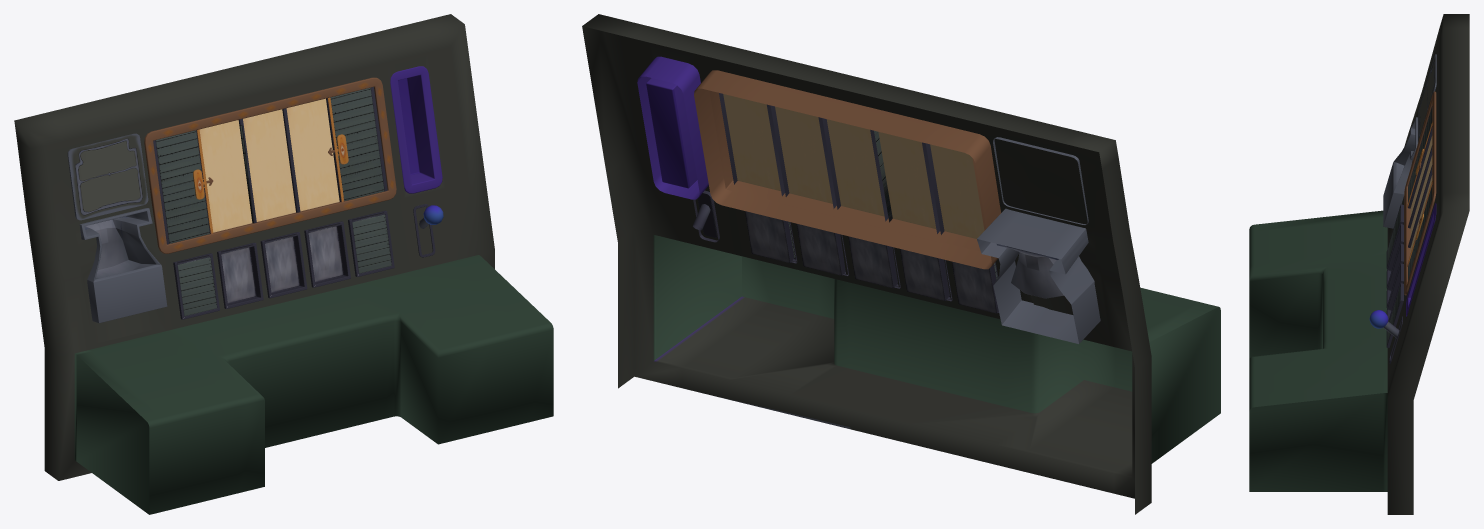
File: Machine_Slot_02.fbx
3 views of the same model, side by side, from view 1: azimuth 30°, elevation 25°; view 2: azimuth 150°, elevation 25°; view 3: azimuth 270°, elevation 25° (orthographic). The views are drawn at different scales.
Parts seen in each view (by area): view 1: Machine_Body, Screen_Slot_01, Slot_M_Edge, Coin_Box, Machine_Money Pano, Chıp_Edge, Screen_Slot_Shutter_01, Screen_Slot_Shutter_05, CARD_Slot_03, CARD_Slot_04, CARD_Slot_02, Slot_M.003_ic_kenar (+6 smaller); view 2: Machine_Body, Screen_Slot_01, Slot_M_Edge, Coin_Box, Chıp_Edge, Slot_M.003_ic_kenar, CARD_Slot_02, CARD_Slot_03, CARD_Slot_05, CARD_Slot_04, CARD_Slot_01; view 3: Machine_Body, Slot_M_Edge, Coin_Box, Slot_M.003_ic_kenar, Screen_Slot_01, Machine_Money Pano, Chıp_Edge, SpinKol, Screen_Slot_Shutter_01, CARD_Slot_03, CARD_Slot_02, Screen_Slot_Shutter_05 (+2 smaller).
Part boxes in pixels (x1,y1,x2,y2): Machine_Body: (14,14,553,514); Screen_Slot_01: (199,98,339,232); Slot_M_Edge: (144,77,396,253); Coin_Box: (79,208,167,323); Machine_Money Pano: (67,133,148,220); Chıp_Edge: (390,66,442,193); Screen_Slot_Shutter_01: (155,130,209,243); Screen_Slot_Shutter_05: (330,87,384,201); CARD_Slot_03: (260,232,307,298); CARD_Slot_04: (304,221,350,287); CARD_Slot_02: (217,242,263,308); Slot_M.003_ic_kenar: (153,87,387,244); Machine_Body: (582,14,1220,514); Screen_Slot_01: (723,94,984,238); Slot_M_Edge: (694,70,1001,269); Coin_Box: (977,208,1100,343); Chıp_Edge: (637,56,708,199); Slot_M.003_ic_kenar: (719,93,944,234); CARD_Slot_02: (900,249,952,301); CARD_Slot_03: (848,236,900,288); CARD_Slot_05: (744,211,797,263); CARD_Slot_04: (796,223,848,275); CARD_Slot_01: (951,261,998,313); Machine_Body: (1249,14,1469,514); Slot_M_Edge: (1404,91,1436,295); Coin_Box: (1383,117,1417,228); Slot_M.003_ic_kenar: (1408,106,1432,259); Screen_Slot_01: (1410,136,1432,252); Machine_Money Pano: (1418,54,1436,142); Chıp_Edge: (1406,203,1436,316); SpinKol: (1369,310,1399,338); Screen_Slot_Shutter_01: (1408,107,1432,202); CARD_Slot_03: (1386,244,1403,308); CARD_Slot_02: (1386,224,1403,288); Screen_Slot_Shutter_05: (1408,185,1432,280).
Size of the model in its own units: 5.4 by 3.88 by 2.55.
